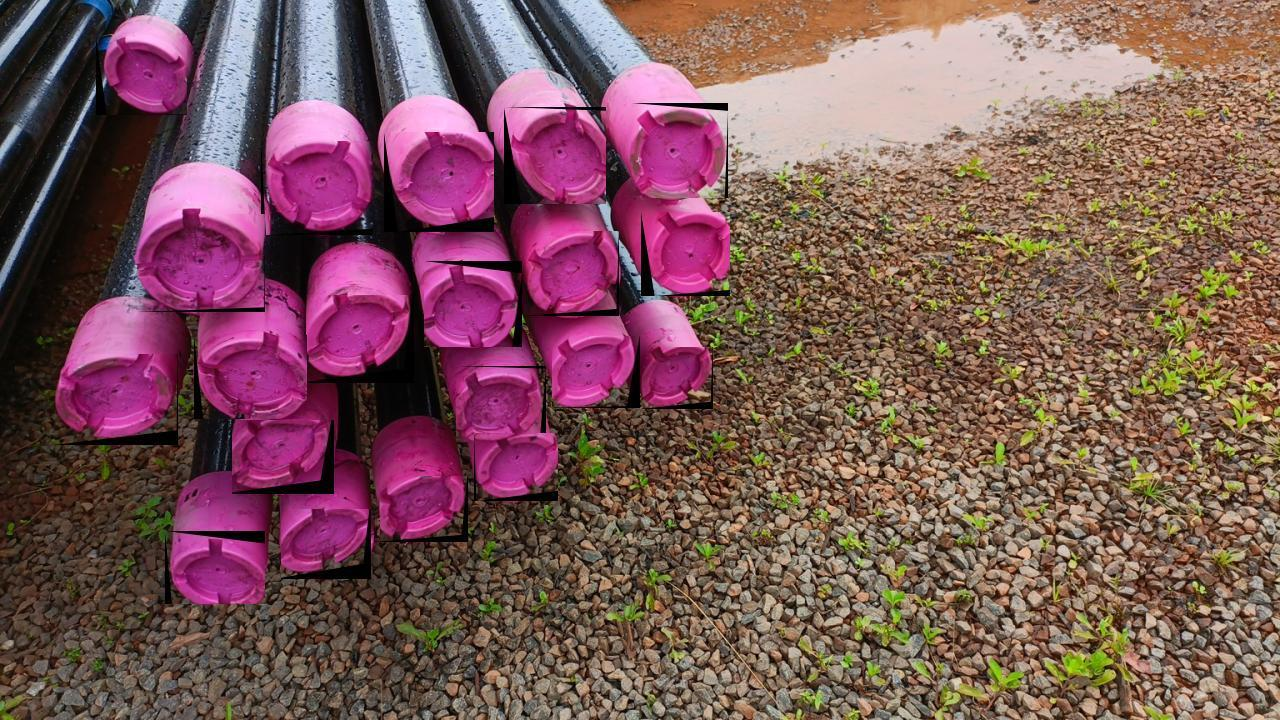pipe: (137, 214, 265, 312), (54, 354, 178, 445), (384, 132, 494, 232), (261, 142, 373, 236), (504, 107, 606, 204), (306, 295, 414, 383), (194, 335, 307, 419), (631, 103, 728, 198), (424, 261, 522, 347), (524, 231, 619, 316), (232, 420, 334, 494), (641, 212, 730, 296), (165, 531, 265, 604), (96, 36, 187, 115), (456, 366, 546, 442), (281, 509, 371, 580), (552, 336, 640, 408), (380, 476, 468, 542), (474, 433, 558, 501), (642, 347, 713, 409)
